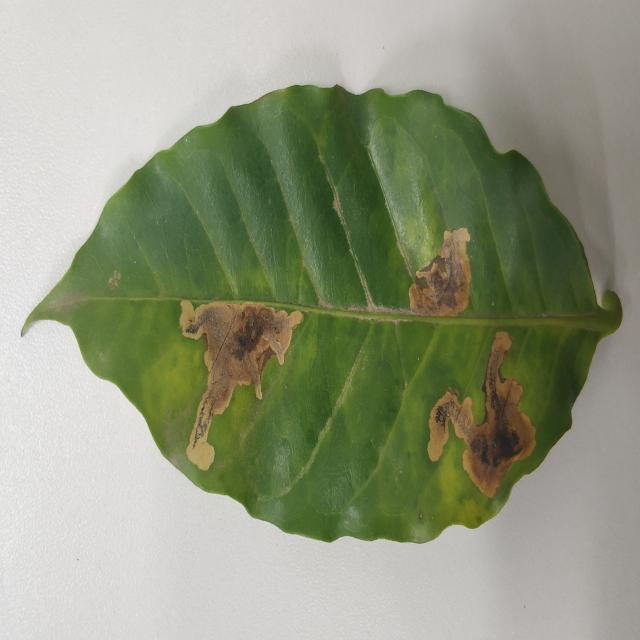Plaga-Minador: (23, 85, 624, 548)
